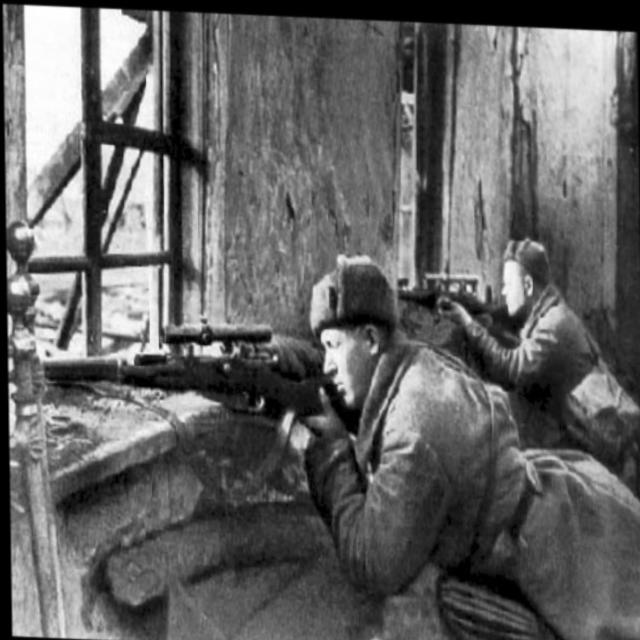other: (253, 220, 471, 640), (495, 185, 588, 414)
